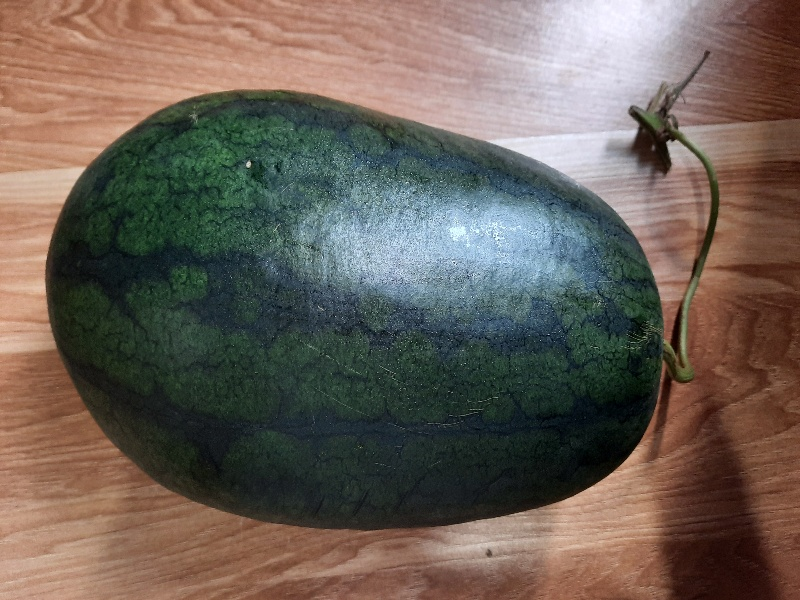fruit: (46, 74, 719, 534)
